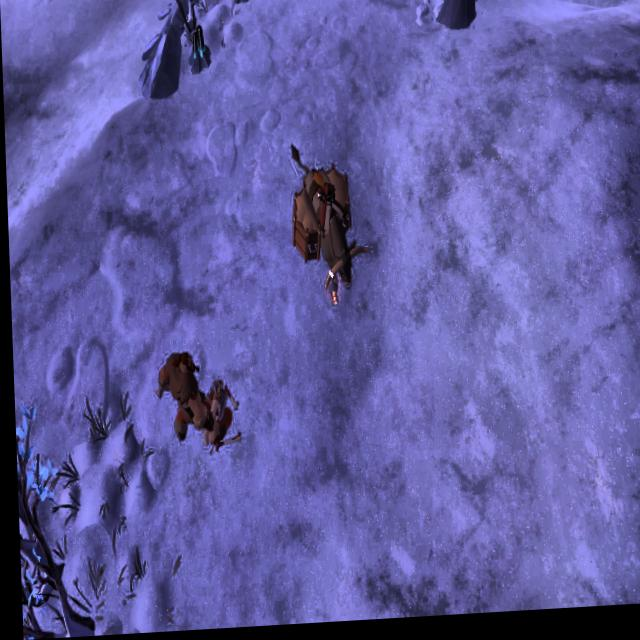enemy_factionKeeper: (152, 336, 213, 448)
ore_t4: (190, 22, 208, 68)
